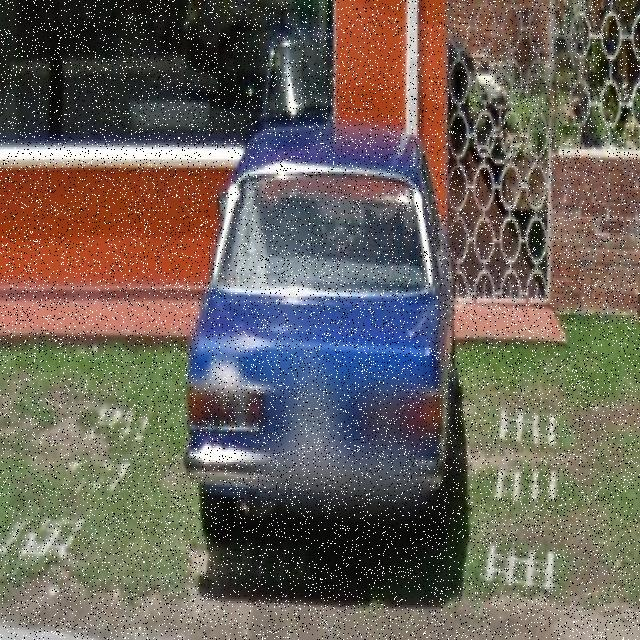cars: (188, 131, 458, 540)
